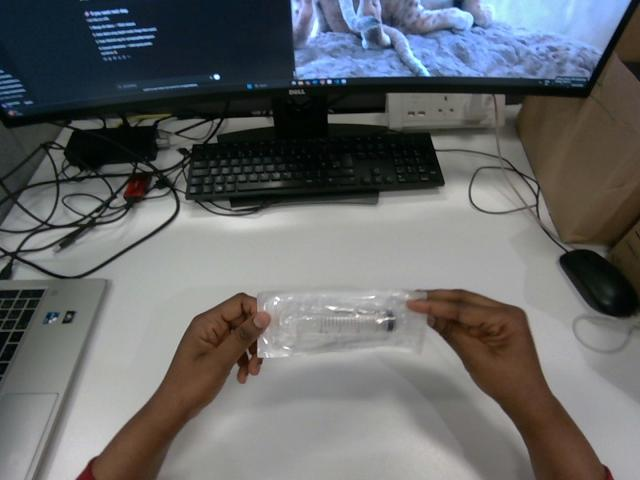syringe: (257, 290, 425, 357)
